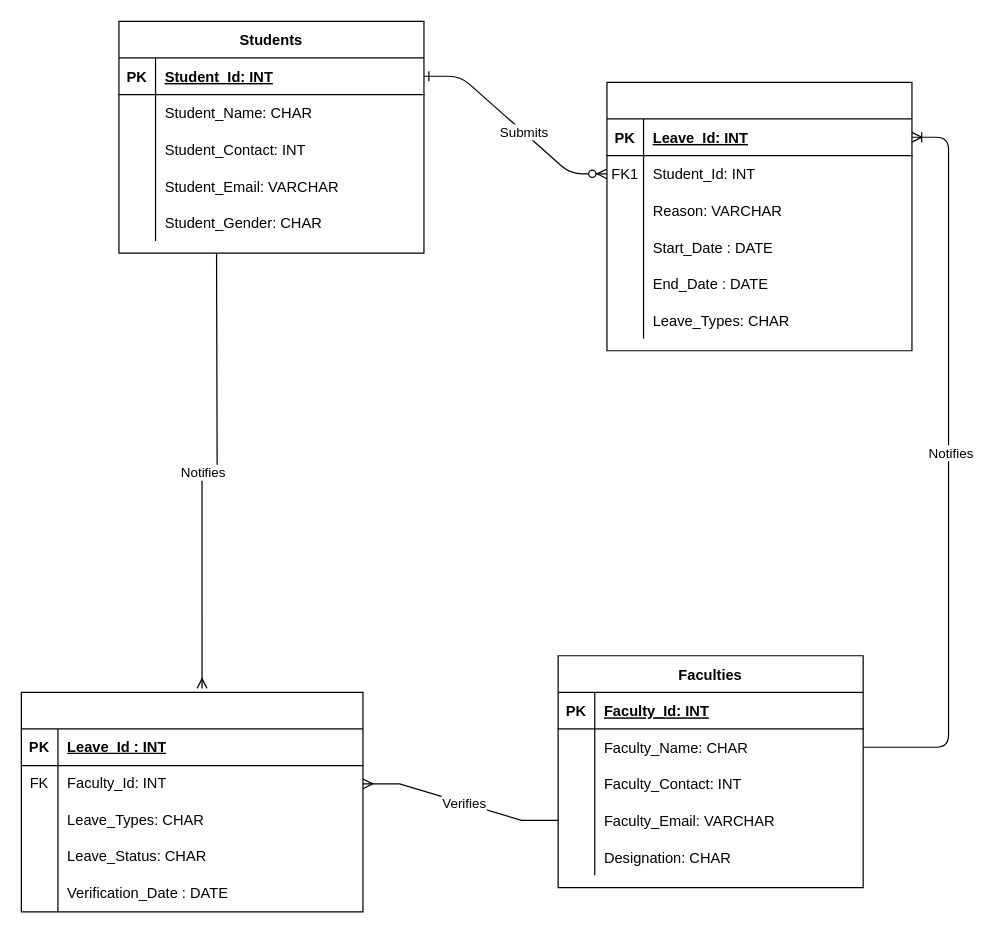
The diagram is 994 pixels wide and 933 high, and some of its shapes have lost their labels. The shapes that lost their labels are listed below. From the top down, each one's box as (x1, y1, x2, y2) in pixels, then its label:
(606, 81, 912, 351): Leave application
(20, 691, 363, 912): Leave Records
